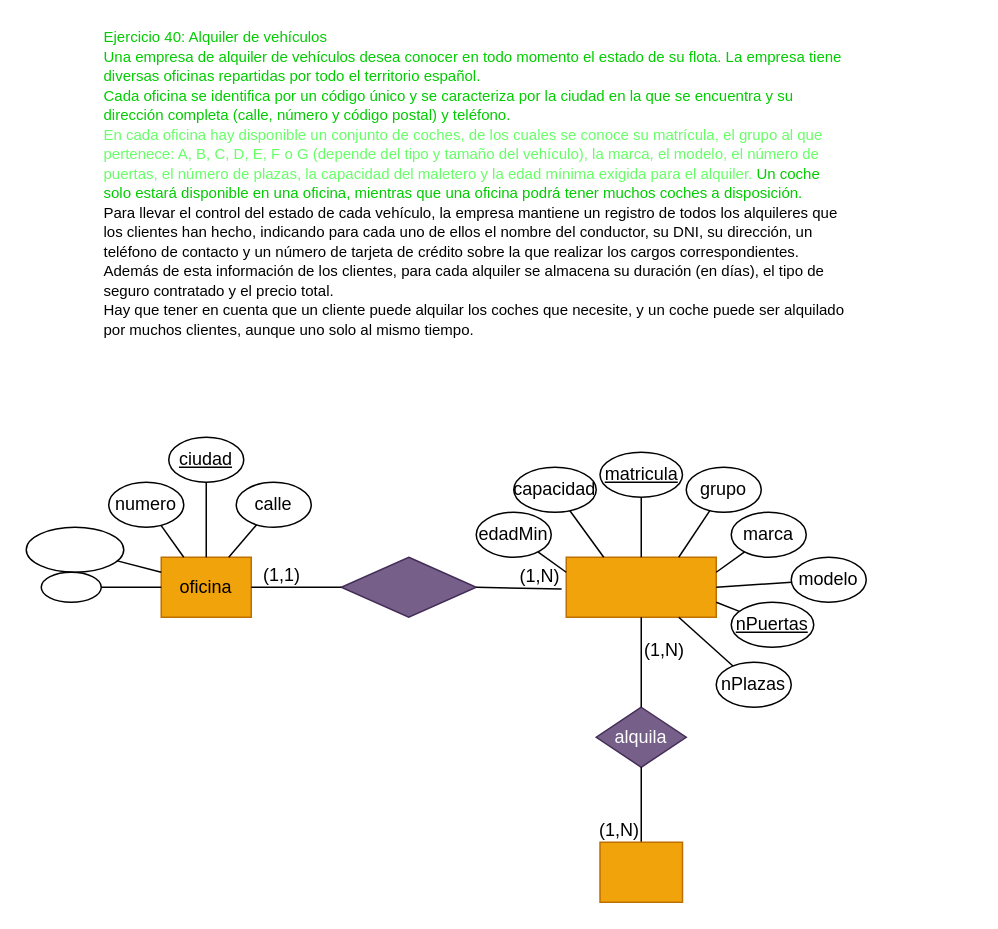
Some shapes in this 998 by 929 pixel diagram are drawn without their labels. The centre of each missing label's shape, as x and y in pixels:
"cliente" belongs at [640,871].
"coche" belongs at [640,586].
"codPostal" belongs at [74,549].
"dispone" belongs at [408,586].
"telf" belongs at [70,586].
